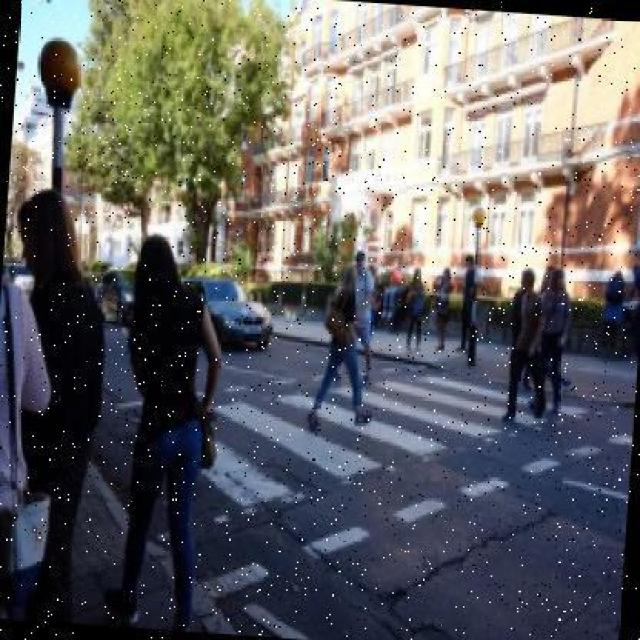Person: (0, 189, 118, 624), (107, 233, 231, 632), (306, 261, 383, 433), (504, 266, 548, 428), (532, 264, 576, 425), (344, 249, 379, 391), (432, 262, 458, 356), (402, 268, 428, 357), (458, 250, 479, 356)
